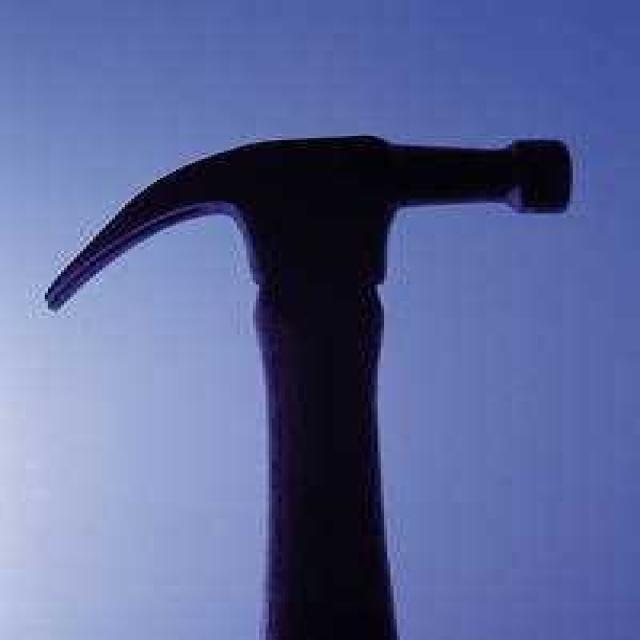hammer: (48, 135, 568, 640)
